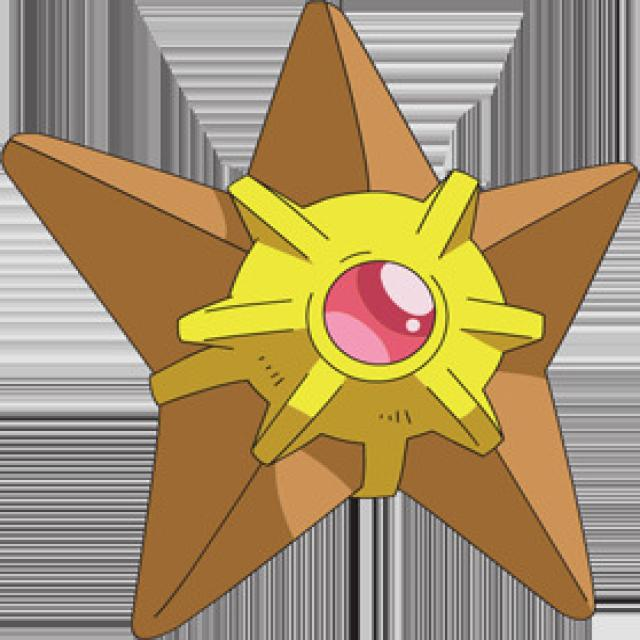Staryu: (0, 0, 640, 629)
